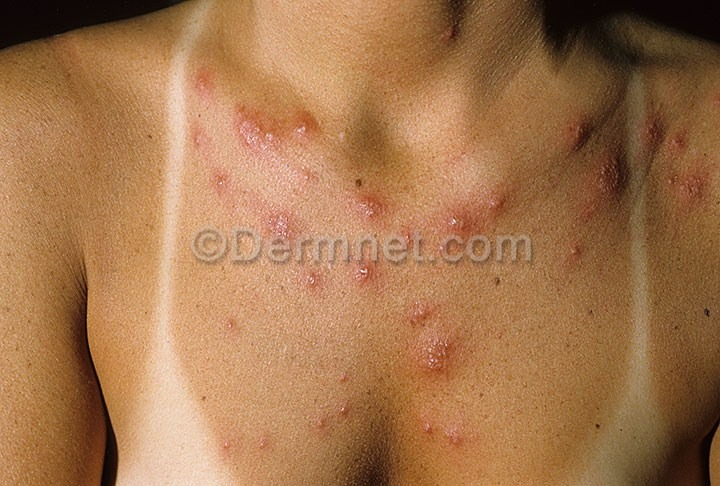Melasma: (172, 52, 720, 447)
